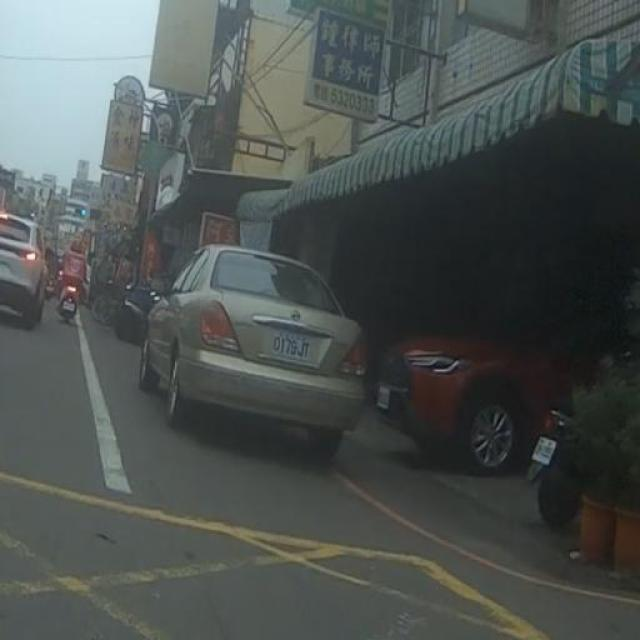illegalparking: (123, 208, 404, 473)
